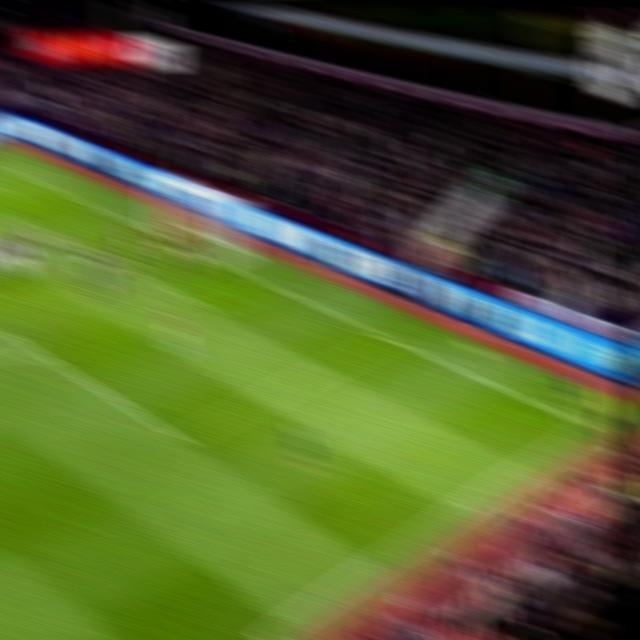bigarea_bottom_inner: (164, 424, 199, 454)
bigarea_bottom_outter: (375, 323, 402, 351)
bigarea_top_outter: (18, 170, 44, 192)
bottom_arc_area_intersection: (28, 345, 59, 366)
corner: (569, 412, 605, 445)
smallarea_bottom_inner: (193, 298, 227, 320)
smallarea_bottom_outter: (259, 275, 282, 296)
smallarea_top_inner: (40, 222, 69, 243)
smallarea_top_outter: (98, 205, 124, 223)
